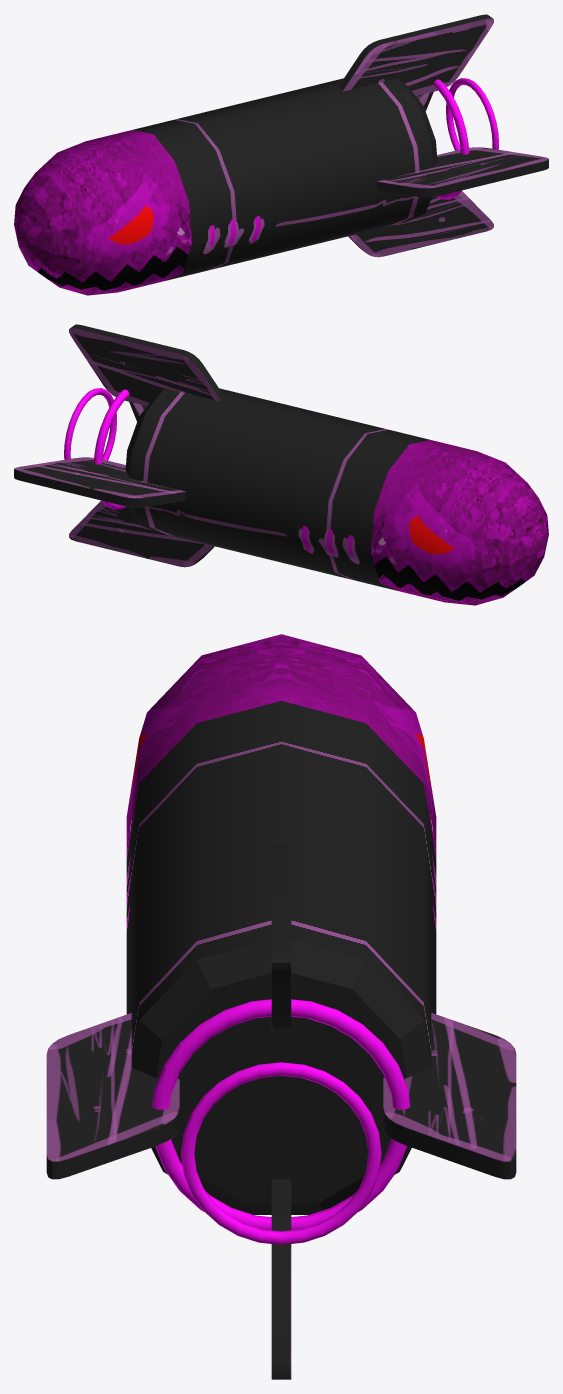
Rendered from Bomb1111.fbx.
The picture shows the model from 3 angles, top to bottom: view 1: azimuth 30°, elevation 25°; view 2: azimuth 150°, elevation 25°; view 3: azimuth 270°, elevation 25°; orthographic projection. The views are drawn at different scales.
Parts seen in each view (by area): view 1: Cylinder001; view 2: Cylinder001; view 3: Cylinder001.
Boxes of the visible parts, x1,y1,x2,y2 form: Cylinder001: (14,14,548,295); Cylinder001: (14,324,548,605); Cylinder001: (46,634,516,1379).
Size of the model in its own units: 38.9 by 16.85 by 16.85.
1 material, 1 textured.
